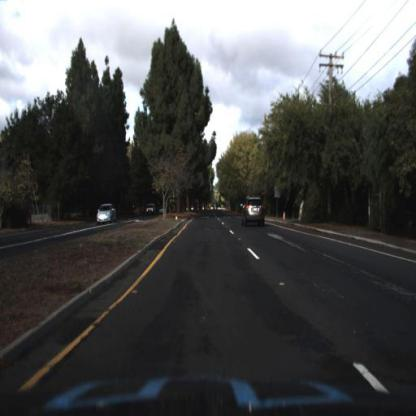car: (242, 199, 266, 228), (94, 203, 116, 223), (145, 199, 157, 220)
